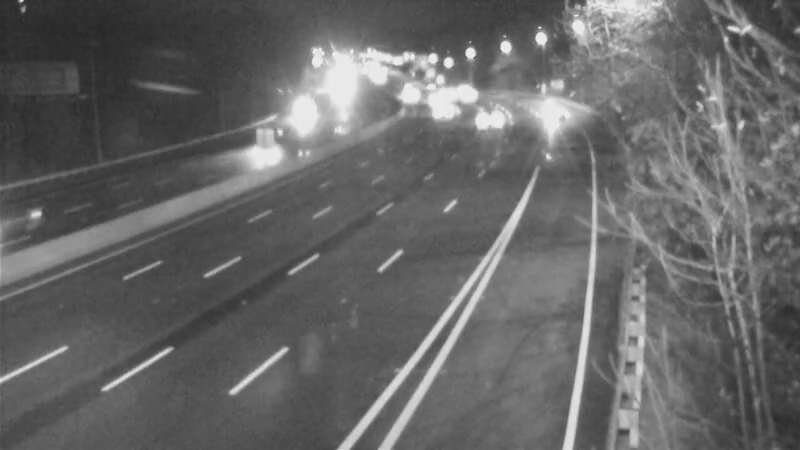vehicle: (217, 115, 297, 195), (1, 179, 75, 259), (523, 87, 573, 137), (416, 86, 466, 136), (464, 98, 514, 148), (278, 92, 328, 142)
